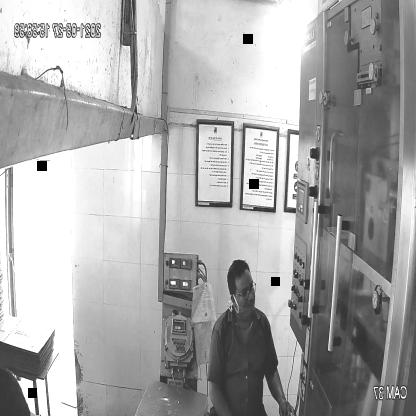goggles: (227, 278, 259, 303)
